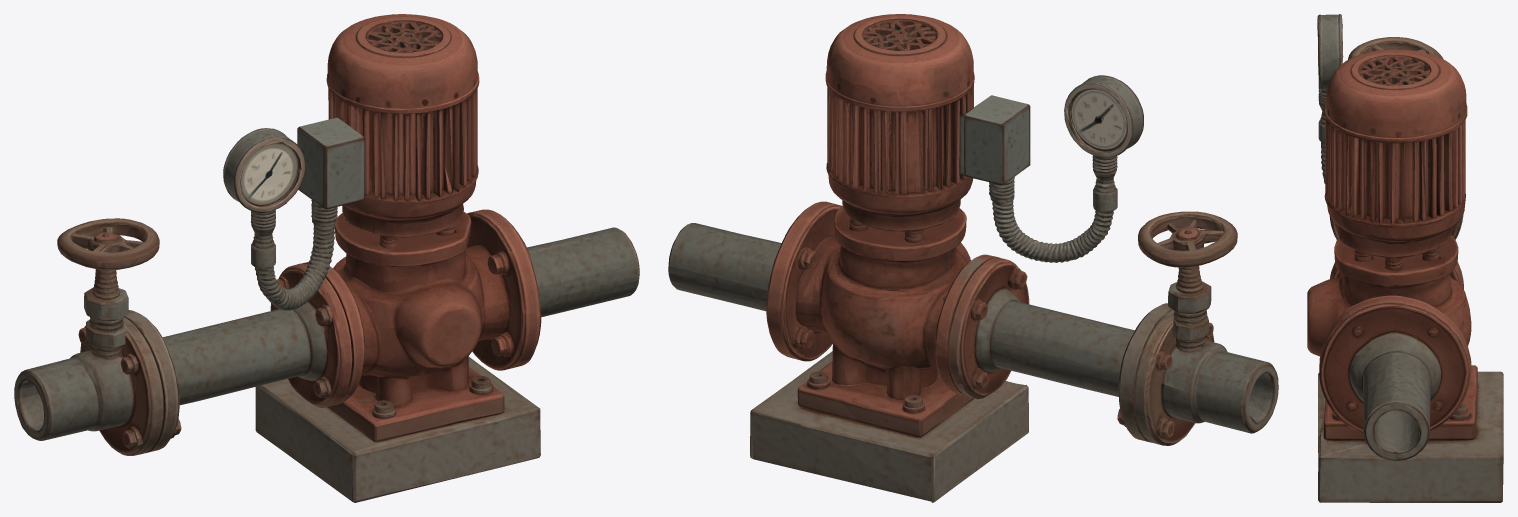
File: pump.glb
3 views of the same model, side by side, from view 1: azimuth 30°, elevation 25°; view 2: azimuth 150°, elevation 25°; view 3: azimuth 270°, elevation 25° (orthographic). The views are drawn at different scales.
Size of the model in its own units: 1.9 by 1.28 by 0.5843.
Materials: 1 (1 with a texture image).
